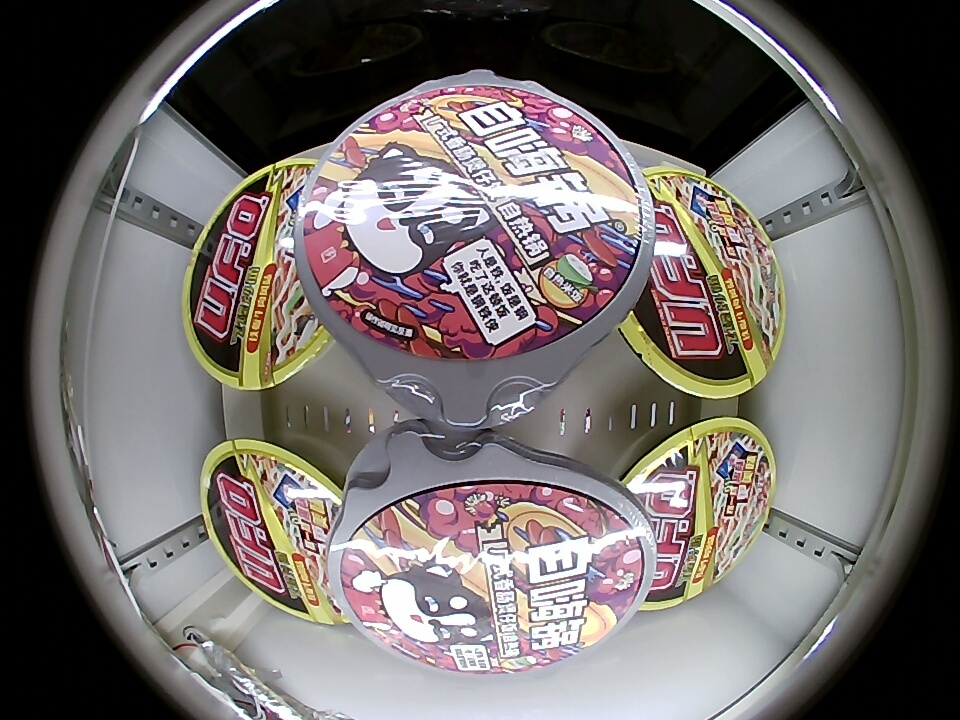ufo: (622, 166, 786, 399), (185, 157, 318, 389), (621, 417, 776, 611), (201, 440, 343, 624)
zihaiguo: (299, 80, 643, 362), (338, 476, 644, 675)
